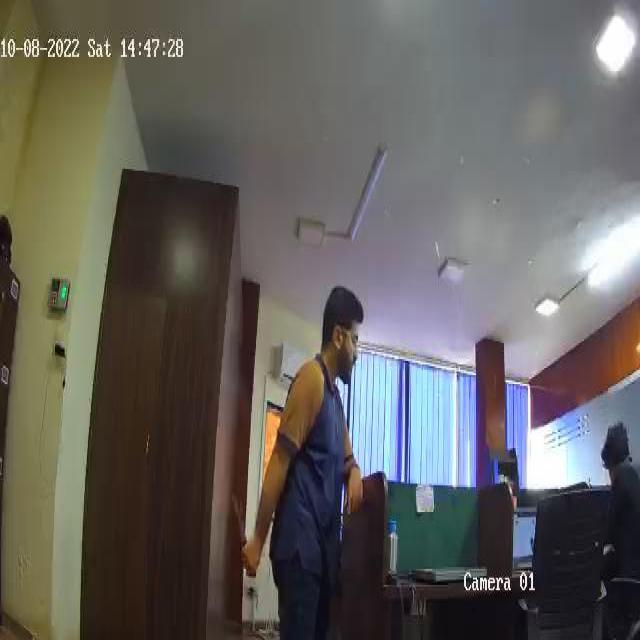weapon: (229, 489, 256, 581)
